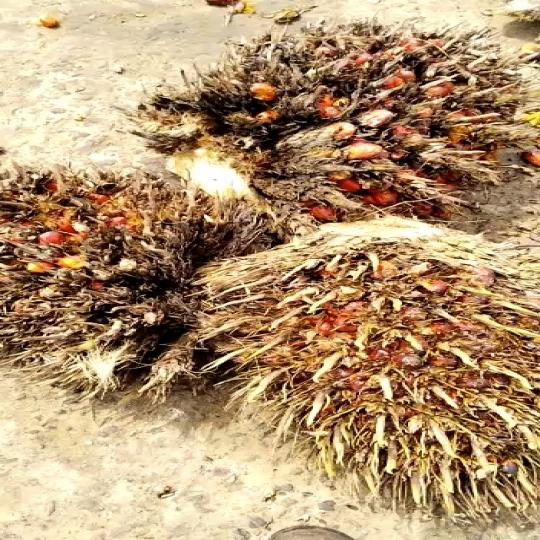terlalu masak: (187, 206, 540, 505), (153, 38, 540, 212), (0, 159, 274, 380)
